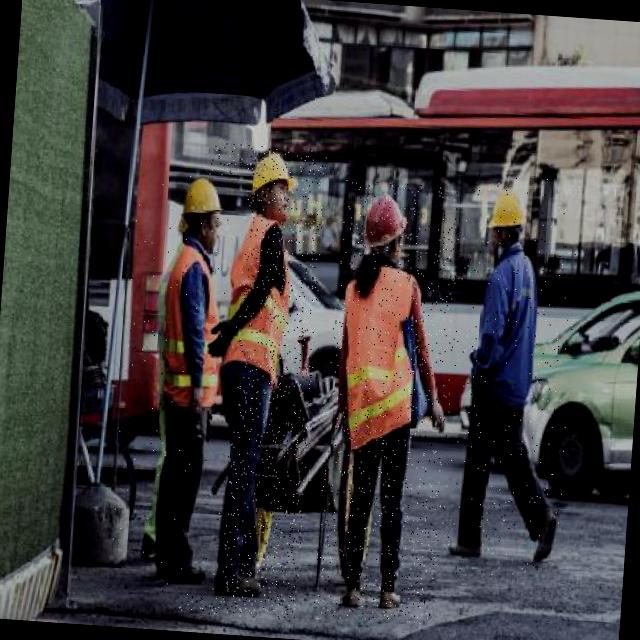boots: (526, 508, 562, 566), (212, 570, 262, 600), (157, 562, 205, 586), (443, 539, 486, 560), (377, 590, 402, 612), (339, 588, 362, 610)
helmet: (361, 193, 409, 251), (252, 152, 298, 198), (487, 190, 528, 232), (182, 177, 222, 217)
vest: (333, 264, 423, 454), (219, 212, 294, 392), (148, 241, 228, 408)
